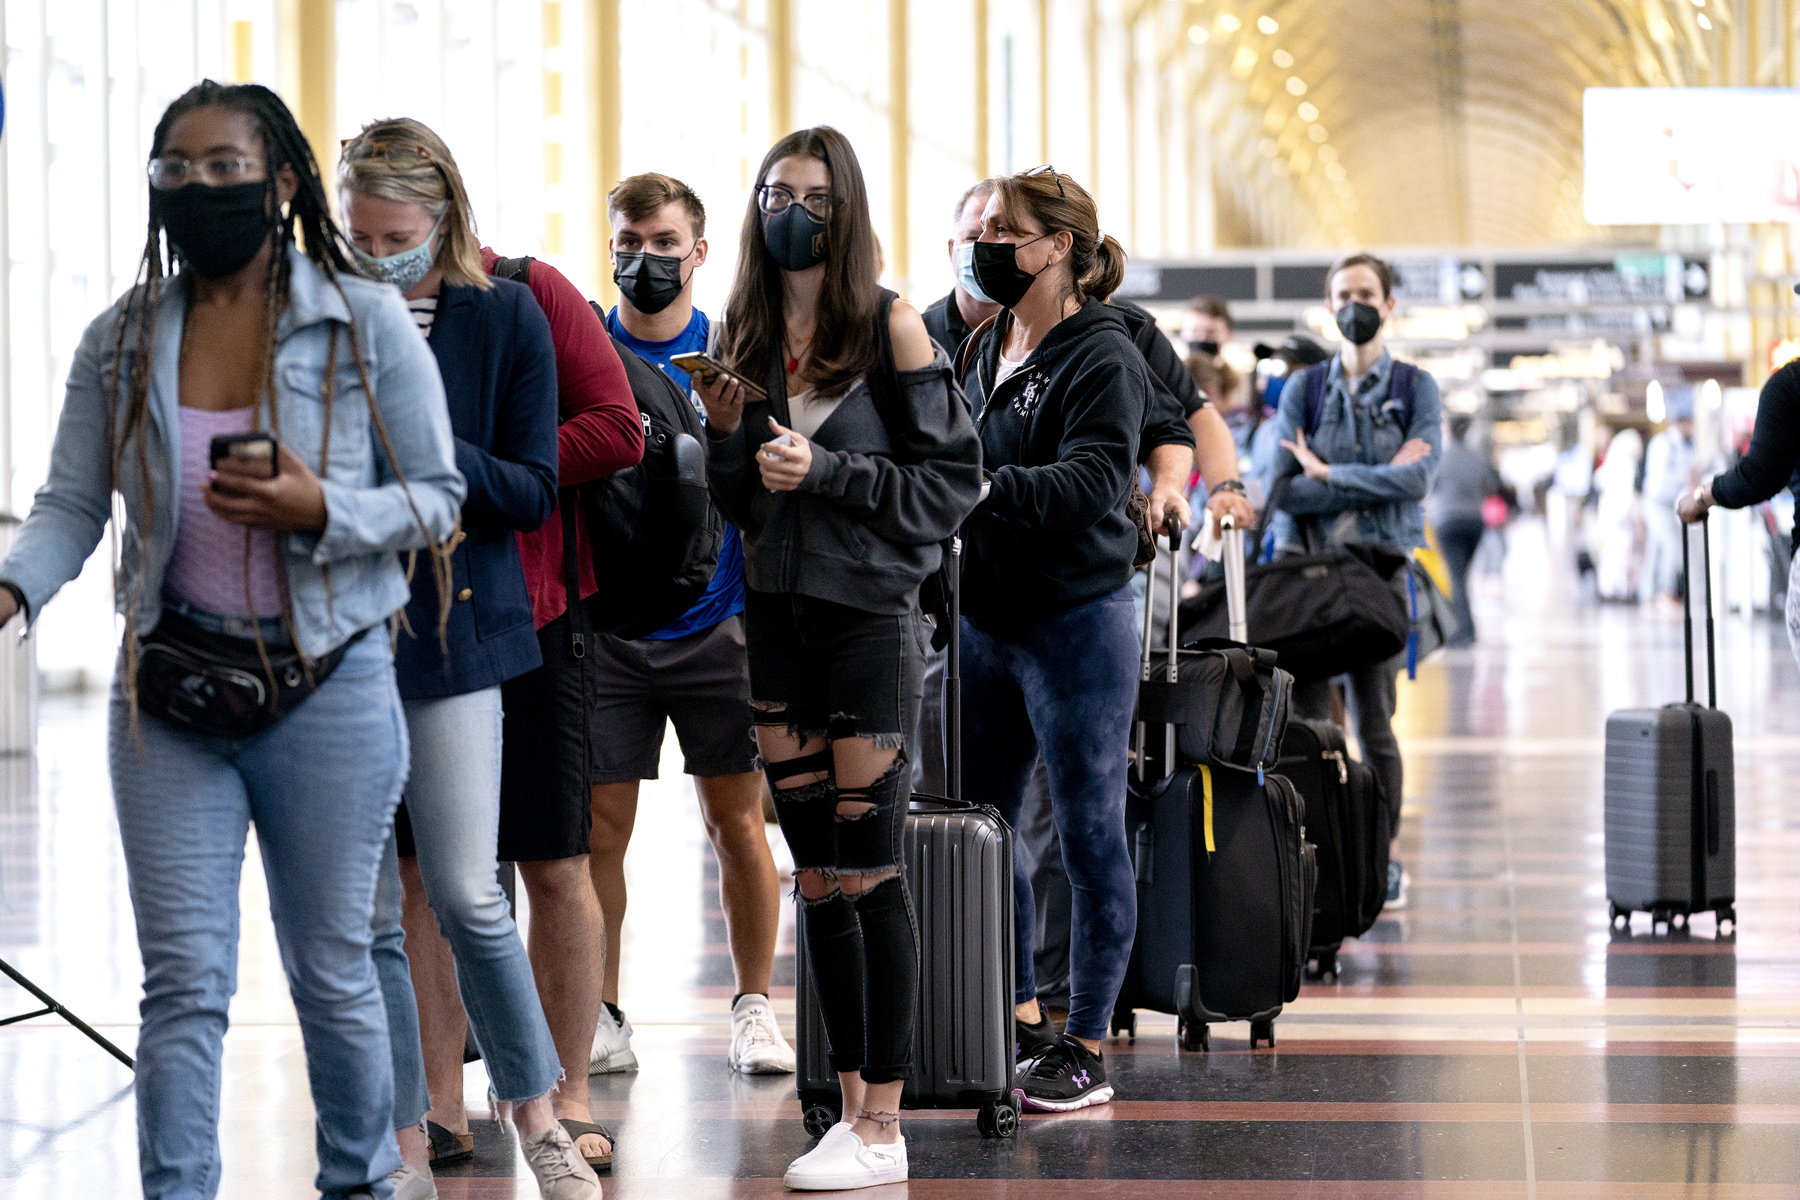with_mask: (153, 119, 277, 262), (972, 191, 1060, 304), (338, 196, 438, 287), (758, 164, 841, 272), (607, 217, 700, 311), (1329, 261, 1385, 343)
